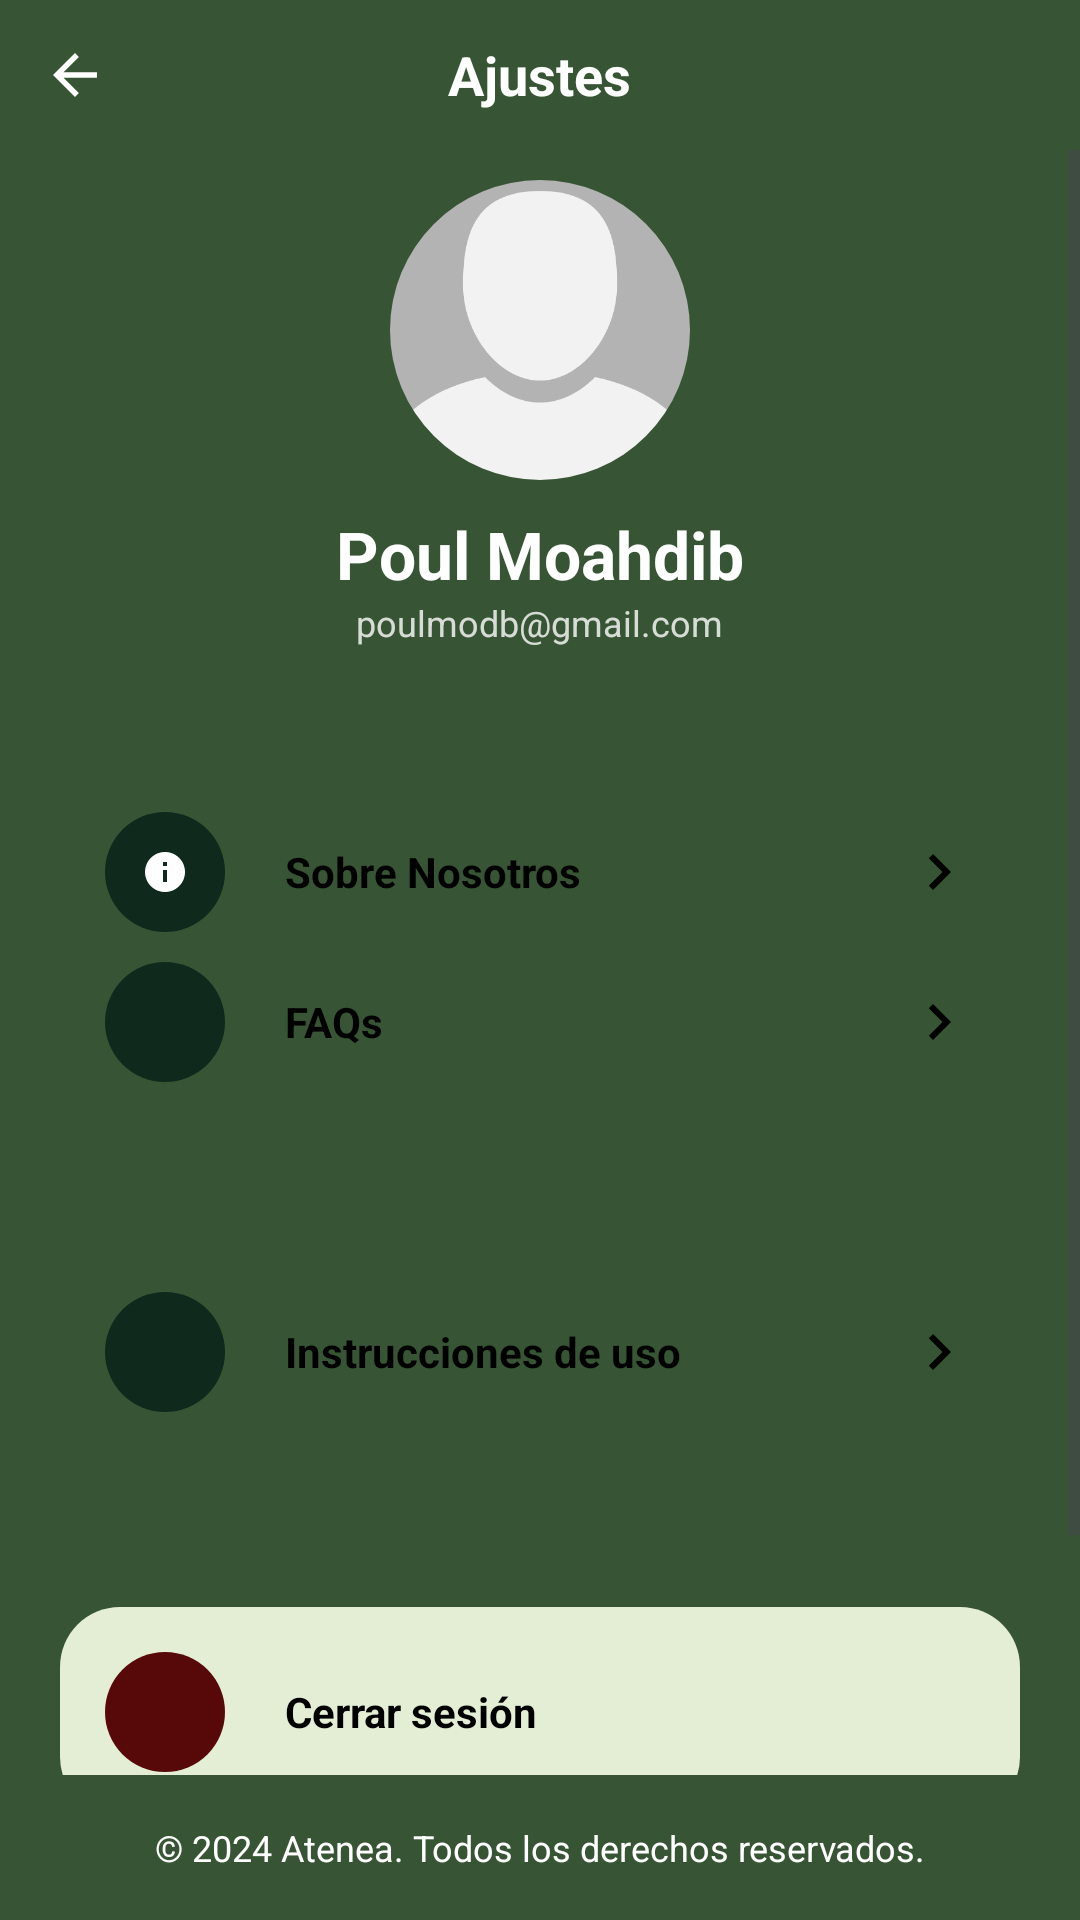

Where icons sit on this 1080w x 1920h app screen, as (x1, y1, x2, y2):
abouticon: (105, 812, 225, 932)
back: (53, 53, 97, 97)
Continuar: (929, 854, 951, 890), (929, 1004, 951, 1040), (929, 1334, 951, 1370)
profileimage: (390, 180, 690, 480)
